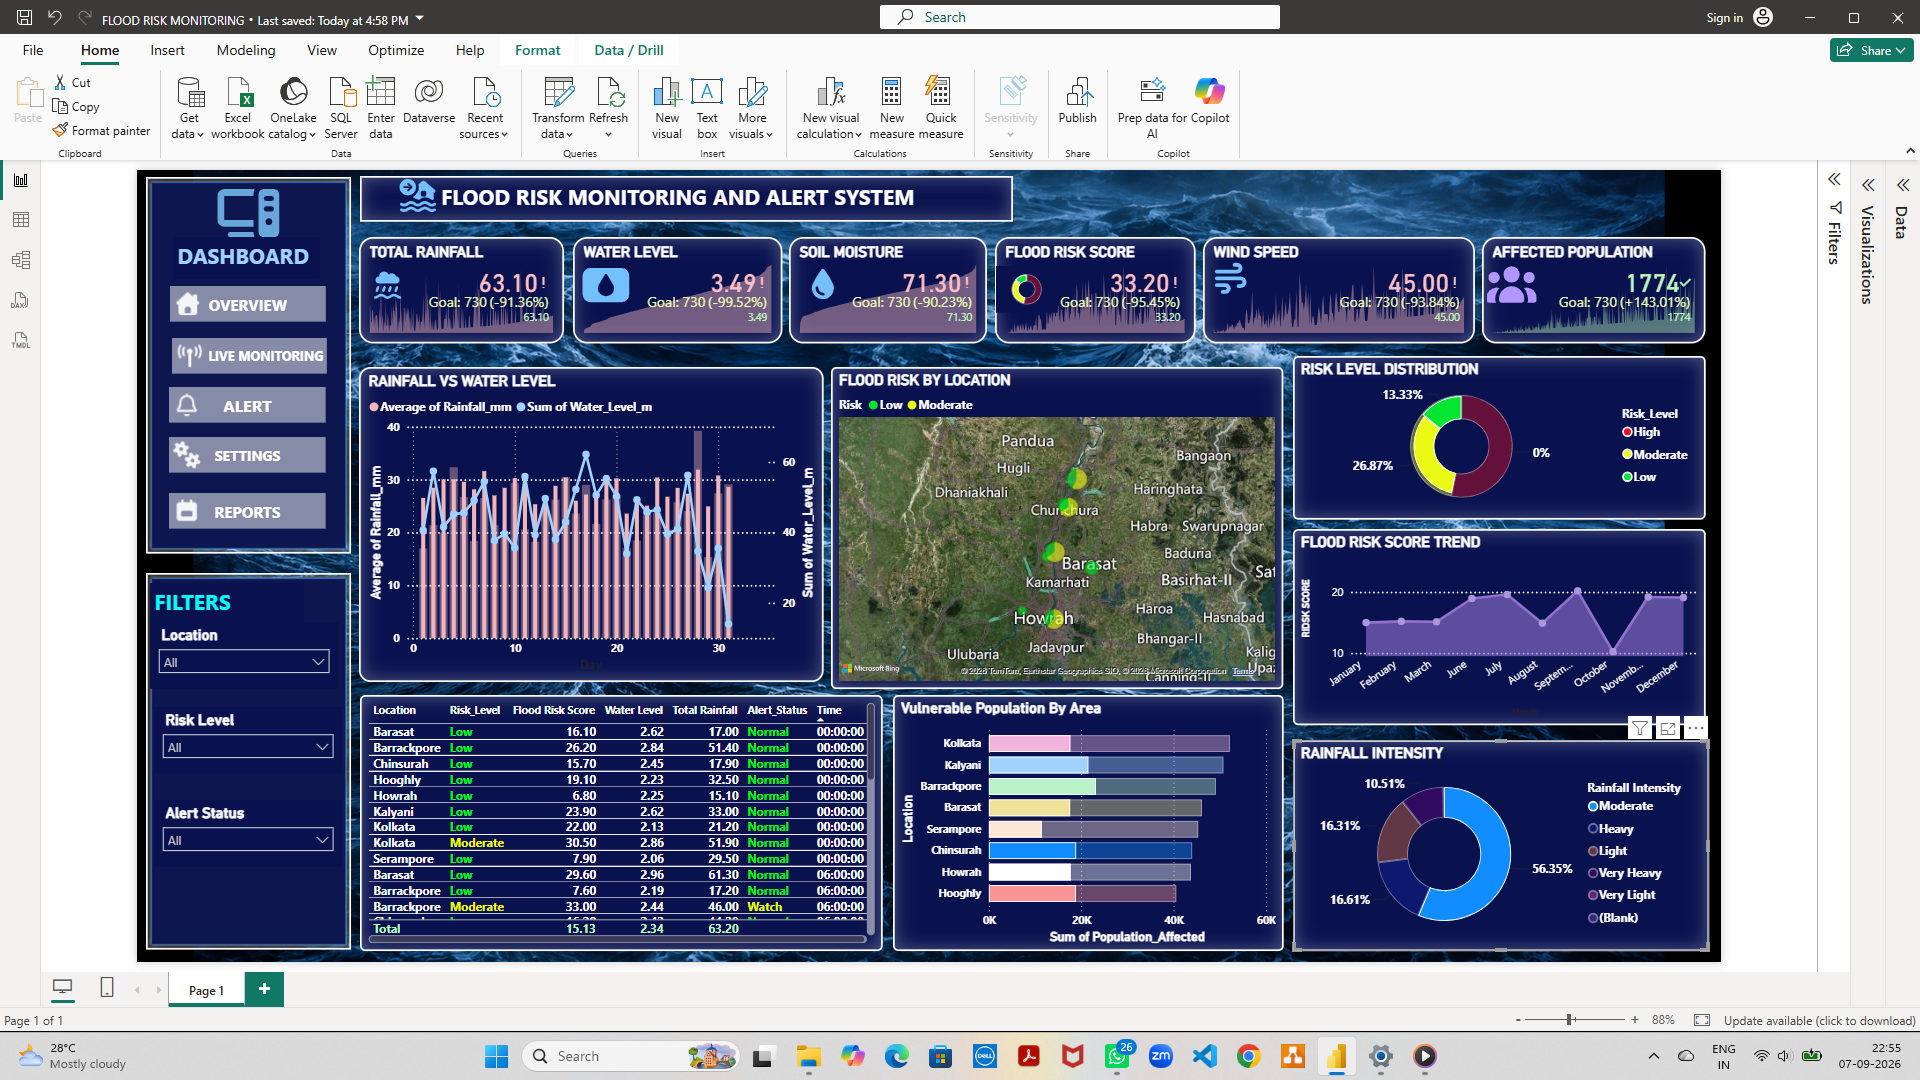

The dashboard page shown, as its layout file describes it:
{"tool":"powerbi","page":{"name":"Page 1","canvas":[1800,900],"ordinal":0},"visuals":[{"type":"textbox","box":[253.6,7.1,742.2,52.3],"z":0},{"type":"stackedAreaChart","title":"FLOOD RISK SCORE TREND","fields":{"Category":["Smart_Flood_Risk_Dataset.Date.Variation.Date Hierarchy.Month"],"Y":["Smart_Flood_Risk_Dataset.Flood Risk Score"]},"box":[1313.8,407.5,468.8,222.5],"z":1000},{"type":"donutChart","title":"RISK LEVEL DISTRIBUTION","fields":{"Category":["Smart_Flood_Risk_Dataset.Risk_Level"],"Y":["Smart_Flood_Risk_Dataset.Flood Risk Score"]},"box":[1313.8,211.2,468.8,186.2],"z":2000},{"type":"donutChart","title":"RAINFALL INTENSITY","fields":{"Y":["Sum(Smart_Flood_Risk_Dataset.Rainfall_mm)"],"Category":["Smart_Flood_Risk_Dataset.Rainfall Intensity"]},"box":[1313.8,647.5,472.5,240],"z":3000},{"type":"lineClusteredColumnComboChart","title":"RAINFALL VS WATER LEVEL","fields":{"Y":["Avg(Smart_Flood_Risk_Dataset.Rainfall_mm)"],"Category":["Smart_Flood_Risk_Dataset.Date.Variation.Date Hierarchy.Day"],"Y2":["Sum(Smart_Flood_Risk_Dataset.Water_Level_m)"]},"box":[252.5,223.8,527.5,357.5],"z":4000},{"type":"tableEx","fields":{"Values":["Smart_Flood_Risk_Dataset.Location","Smart_Flood_Risk_Dataset.Risk_Level","Smart_Flood_Risk_Dataset.Flood Risk Score","Smart_Flood_Risk_Dataset.Water Level","Smart_Flood_Risk_Dataset.Total Rainfall","Smart_Flood_Risk_Dataset.Alert_Status","Smart_Flood_Risk_Dataset.Time"]},"box":[253.8,596.2,593.8,291.2],"z":5000},{"type":"barChart","title":"Vulnerable Population By Area","fields":{"Y":["Sum(Smart_Flood_Risk_Dataset.Population_Affected)"],"Category":["Smart_Flood_Risk_Dataset.Location"]},"box":[858.8,596.2,443.8,291.2],"z":6000},{"type":"map","title":"FLOOD RISK BY LOCATION","fields":{"Category":["Smart_Flood_Risk_Dataset.Location"],"Y":["Avg(Smart_Flood_Risk_Dataset.Latitude)"],"X":["Avg(Smart_Flood_Risk_Dataset.Longitude)"],"Series":["Smart_Flood_Risk_Dataset.Risk_Level"],"Size":["Smart_Flood_Risk_Dataset.Flood Risk Score"]},"box":[788.8,223.8,513.8,366.2],"z":7000},{"type":"kpi","title":"TOTAL RAINFALL","fields":{"Indicator":["Sum(Smart_Flood_Risk_Dataset.Rainfall_mm)"],"TrendLine":["Smart_Flood_Risk_Dataset.Rainfall_mm"],"Goal":["CountNonNull(Smart_Flood_Risk_Dataset.Date.Variation.Date Hierarchy.Day)"]},"box":[252.5,76.2,232.5,121.2],"z":8000},{"type":"kpi","title":"WATER LEVEL ","fields":{"Indicator":["Avg(Smart_Flood_Risk_Dataset.Water_Level_m)"],"TrendLine":["Smart_Flood_Risk_Dataset.Water_Level_m"],"Goal":["CountNonNull(Smart_Flood_Risk_Dataset.Date.Variation.Date Hierarchy.Day)"]},"box":[495,76.2,237.5,121.2],"z":9000},{"type":"kpi","title":"SOIL MOISTURE","fields":{"Indicator":["Avg(Smart_Flood_Risk_Dataset.Soil_Moisture_pct)"],"TrendLine":["Smart_Flood_Risk_Dataset.Soil_Moisture_pct"],"Goal":["CountNonNull(Smart_Flood_Risk_Dataset.Date.Variation.Date Hierarchy.Day)"]},"box":[741.2,76.2,225,121.2],"z":10000},{"type":"kpi","title":"FLOOD RISK SCORE","fields":{"Indicator":["Sum(Smart_Flood_Risk_Dataset.Flood_Risk_Score)"],"Goal":["CountNonNull(Smart_Flood_Risk_Dataset.Date.Variation.Date Hierarchy.Day)"],"TrendLine":["Smart_Flood_Risk_Dataset.Flood_Risk_Score"]},"box":[975,76.2,227.5,121.2],"z":11000},{"type":"kpi","title":"WIND SPEED","fields":{"Indicator":["Sum(Smart_Flood_Risk_Dataset.Wind_Speed_kmh)"],"TrendLine":["Smart_Flood_Risk_Dataset.Wind_Speed_kmh"],"Goal":["CountNonNull(Smart_Flood_Risk_Dataset.Date.Variation.Date Hierarchy.Day)"]},"box":[1211.2,76.2,308.8,121.2],"z":12000},{"type":"kpi","title":"AFFECTED POPULATION","fields":{"Indicator":["Sum(Smart_Flood_Risk_Dataset.Population_Affected)"],"TrendLine":["Smart_Flood_Risk_Dataset.Population_Affected"],"Goal":["CountNonNull(Smart_Flood_Risk_Dataset.Date.Variation.Date Hierarchy.Day)"]},"box":[1528.8,76.2,253.8,121.2],"z":13000},{"type":"shape","box":[9.9,7.4,233.3,428.4],"z":14000},{"type":"shape","box":[9.9,458,233.3,428.4],"z":15000},{"type":"image","box":[87.7,0,77.8,97.5],"z":16000},{"type":"textbox","box":[40.7,76.5,166.7,48.1],"z":17000},{"type":"textbox","box":[15.2,469.6,174.7,49.4],"z":18000},{"type":"slicer","fields":{"Values":["Smart_Flood_Risk_Dataset.Location"]},"box":[15.2,513.9,213.9,75.9],"z":19000},{"type":"slicer","fields":{"Values":["Smart_Flood_Risk_Dataset.Risk_Level"]},"box":[19,610.1,213.9,75.9],"z":20000},{"type":"slicer","fields":{"Values":["Smart_Flood_Risk_Dataset.Alert_Status"]},"box":[19,716.5,213.9,75.9],"z":21000},{"type":"image","box":[284.8,7.6,68.4,41.8],"z":22000},{"type":"image","box":[753.2,108.9,51.9,41.8],"z":23000},{"type":"image","box":[503.8,84.8,59.5,93.7],"z":24000},{"type":"image","box":[251.9,111.4,64.6,39.2],"z":25000},{"type":"image","box":[1202.5,101.3,81,44.3],"z":26000},{"type":"donutChart","title":"RISK LEVEL DISTRIBUTION","fields":{"Category":["Smart_Flood_Risk_Dataset.Risk_Level"],"Y":["Smart_Flood_Risk_Dataset.Flood Risk Score"]},"box":[975.9,108.9,69.6,53.2],"z":27000},{"type":"image","box":[1529.1,102.5,64.6,57],"z":28000},{"type":"actionButton","box":[38,131.6,177.2,40.5],"z":29000},{"type":"actionButton","box":[39.2,191.1,175.9,40.5],"z":30000},{"type":"actionButton","box":[36.7,246.8,178.5,40.5],"z":31000},{"type":"actionButton","box":[36.7,303.8,178.5,40.5],"z":32000},{"type":"actionButton","box":[36.7,367.1,178.5,40.5],"z":33000}]}

Visuals, with their boxes on the page's 1800x900 design canvas (x1, y1, x2, y2). These are canvas units, not pixel positions in the 1920x1080 screenshot, which may show the page scaled, cropped or inside an application window:
textbox: (254,7,996,59)
"FLOOD RISK SCORE TREND" stackedAreaChart: (1314,408,1783,630)
"RISK LEVEL DISTRIBUTION" donutChart: (1314,211,1783,397)
"RAINFALL INTENSITY" donutChart: (1314,648,1786,888)
"RAINFALL VS WATER LEVEL" lineClusteredColumnComboChart: (252,224,780,581)
tableEx - Smart_Flood_Risk_Dataset.Location x Smart_Flood_Risk_Dataset.Risk_Level: (254,596,848,887)
"Vulnerable Population By Area" barChart: (859,596,1303,887)
"FLOOD RISK BY LOCATION" map: (789,224,1303,590)
"TOTAL RAINFALL" kpi: (252,76,485,197)
"WATER LEVEL " kpi: (495,76,732,197)
"SOIL MOISTURE" kpi: (741,76,966,197)
"FLOOD RISK SCORE" kpi: (975,76,1202,197)
"WIND SPEED" kpi: (1211,76,1520,197)
"AFFECTED POPULATION" kpi: (1529,76,1783,197)
shape: (10,7,243,436)
shape: (10,458,243,886)
image: (88,0,166,98)
textbox: (41,76,207,125)
textbox: (15,470,190,519)
slicer - Smart_Flood_Risk_Dataset.Location: (15,514,229,590)
slicer - Smart_Flood_Risk_Dataset.Risk_Level: (19,610,233,686)
slicer - Smart_Flood_Risk_Dataset.Alert_Status: (19,716,233,792)
image: (285,8,353,49)
image: (753,109,805,151)
image: (504,85,563,178)
image: (252,111,316,151)
image: (1202,101,1284,146)
"RISK LEVEL DISTRIBUTION" donutChart: (976,109,1046,162)
image: (1529,102,1594,160)
actionButton: (38,132,215,172)
actionButton: (39,191,215,232)
actionButton: (37,247,215,287)
actionButton: (37,304,215,344)
actionButton: (37,367,215,408)
